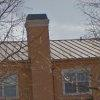Chimney: (23, 10, 67, 54)
